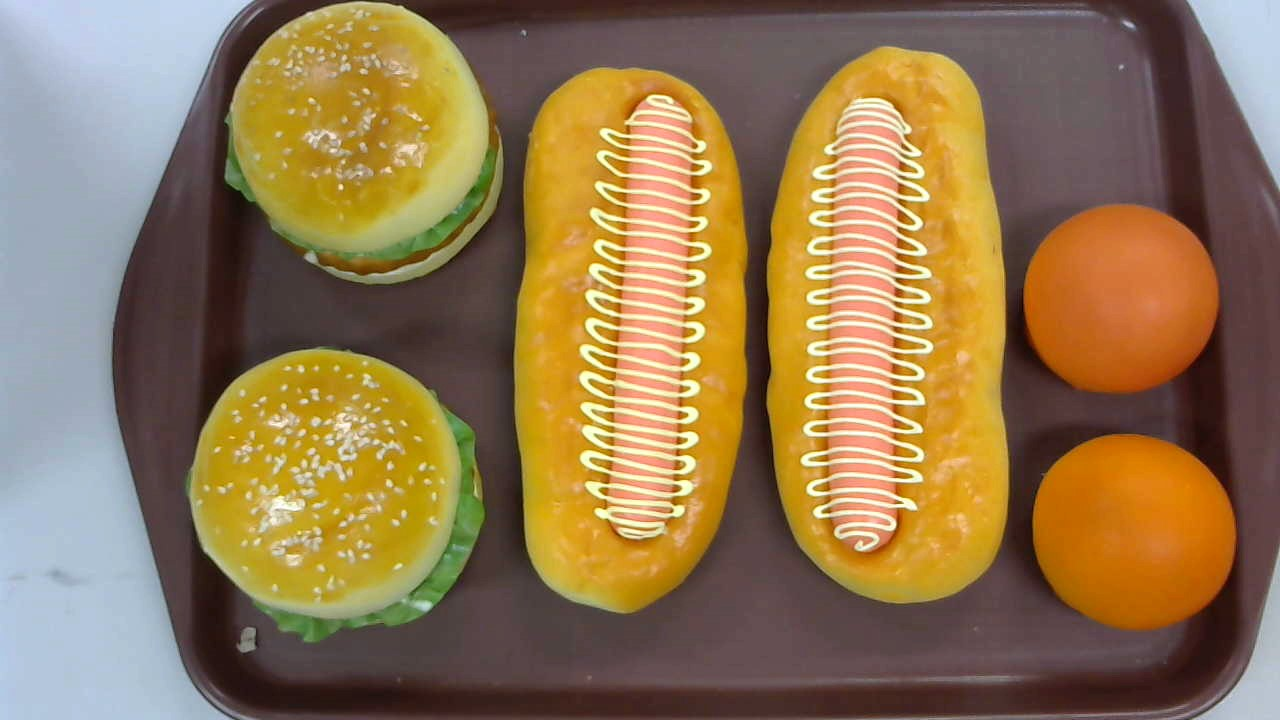bun: (1032, 434, 1235, 630), (1023, 203, 1220, 391)
hamburger: (185, 345, 484, 642), (222, 1, 503, 284)
hot dog: (766, 46, 1010, 603), (512, 66, 747, 616)
